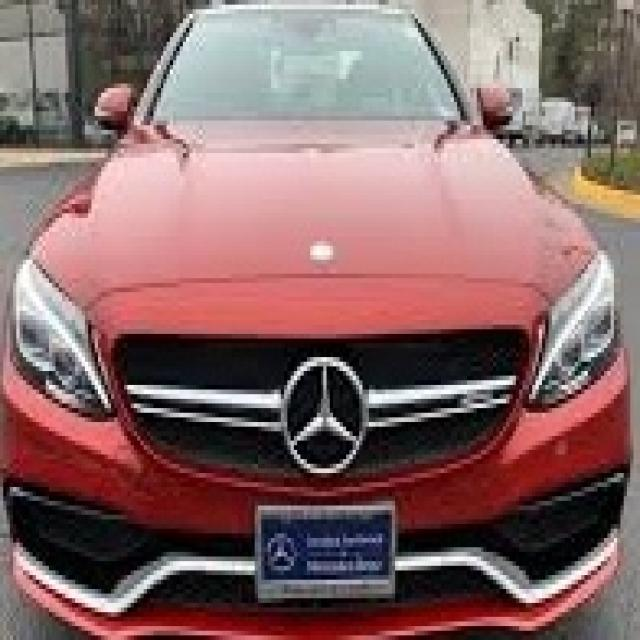red: (12, 7, 640, 640)
